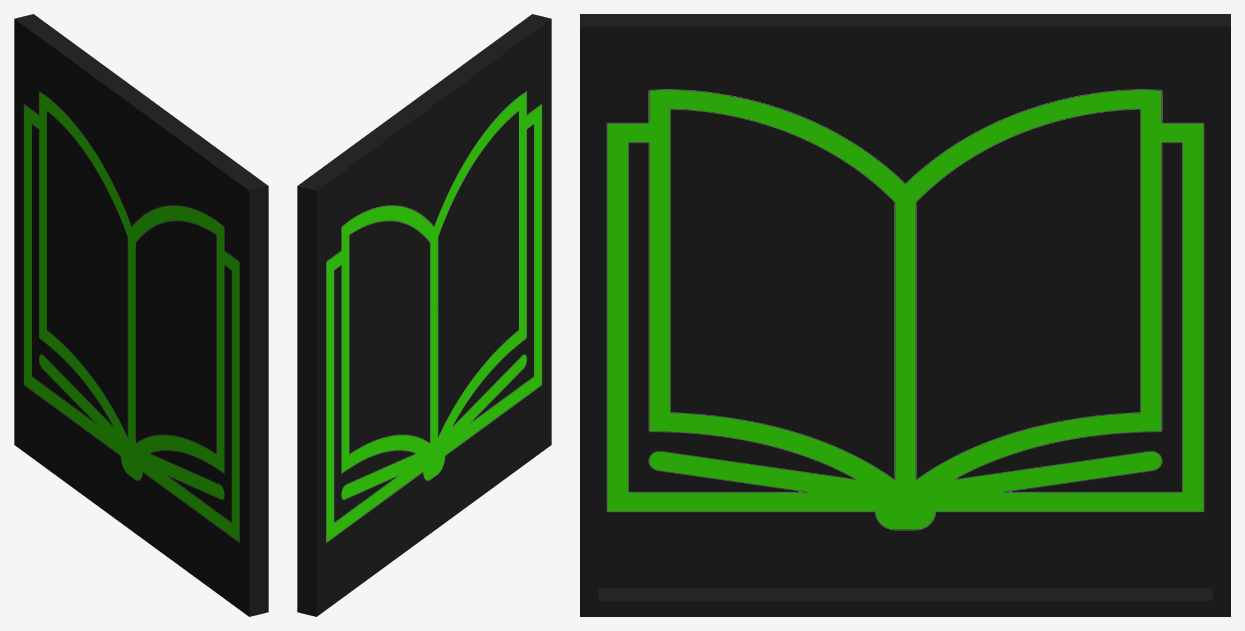
The model's file is BookKey.obj.
The picture shows the model from 3 angles, left to right: view 1: azimuth 30°, elevation 25°; view 2: azimuth 150°, elevation 25°; view 3: azimuth 270°, elevation 25°; orthographic projection. The views are drawn at different scales.
Parts seen in each view (by area): view 1: pCube1; view 2: pCube1; view 3: pCube1.
Boxes of the visible parts, bbox=[...] form: pCube1: bbox=[14, 14, 268, 616]; pCube1: bbox=[297, 14, 551, 616]; pCube1: bbox=[580, 14, 1230, 616].
Bounding box in the file's own units: 0.1608 × 3.38 × 3.38.
1 material, 1 textured.
